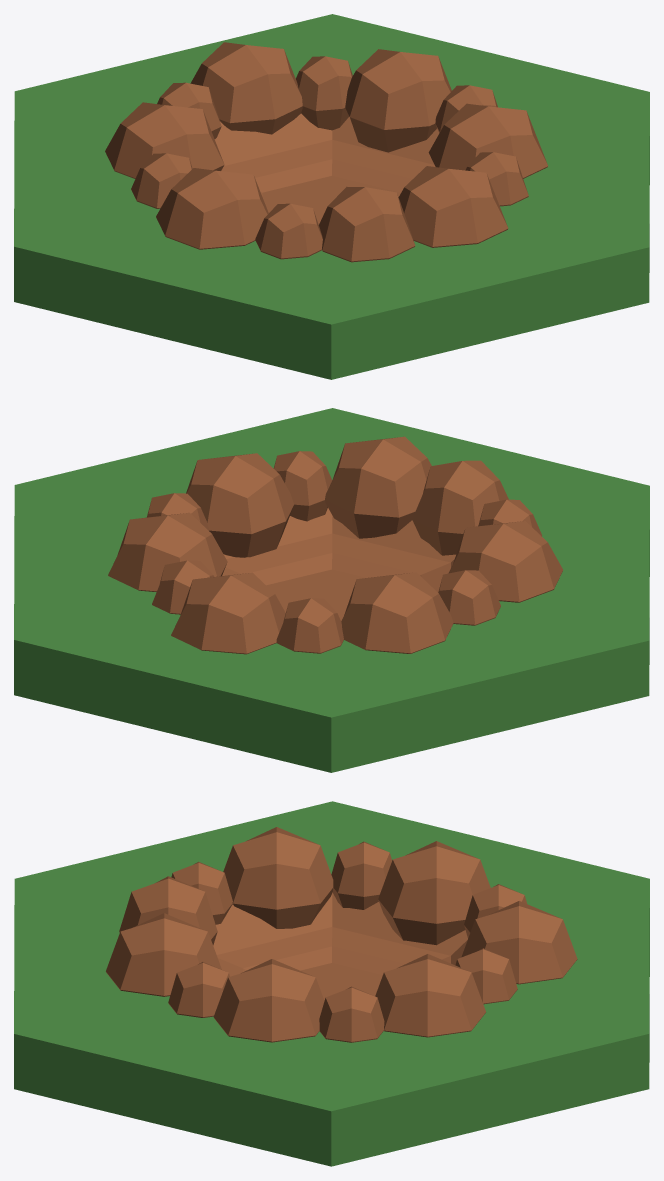
The model's file is Planet_Crater_Hexagon.fbx.
3 renders of one model, top to bottom at view 1: azimuth 30°, elevation 25°; view 2: azimuth 150°, elevation 25°; view 3: azimuth 270°, elevation 25°, orthographic.
Visible parts, largest first — view 1: polySurface5, pCube287, pCube285, pCube294, pCube295, pCube292, pCube297, pCube289, pCube286, pCube296, pCube293, pCube290 (+2 smaller); view 2: polySurface5, pCube289, pCube295, pCube292, pCube285, pCube294, pCube287, pCube297, pCube291, pCube290, pCube293, pCube286 (+2 smaller); view 3: polySurface5, pCube294, pCube292, pCube289, pCube287, pCube295, pCube285, pCube297, pCube293, pCube288, pCube290, pCube286 (+2 smaller).
Part boxes in pixels (x1,y1,x2,y2): polySurface5: [14, 14, 649, 379]; pCube287: [345, 49, 451, 152]; pCube285: [190, 42, 302, 134]; pCube294: [156, 168, 268, 249]; pCube295: [398, 166, 508, 247]; pCube292: [105, 102, 224, 178]; pCube297: [319, 186, 415, 262]; pCube289: [428, 103, 547, 178]; pCube286: [296, 56, 352, 130]; pCube296: [255, 203, 322, 259]; pCube293: [131, 153, 192, 208]; pCube290: [465, 152, 528, 206]; polySurface5: [14, 408, 649, 772]; pCube289: [186, 453, 293, 557]; pCube295: [325, 436, 431, 538]; pCube292: [341, 572, 453, 653]; pCube285: [171, 572, 285, 654]; pCube294: [448, 521, 562, 602]; pCube287: [108, 512, 227, 591]; pCube297: [412, 460, 508, 555]; pCube291: [276, 598, 343, 653]; pCube290: [273, 451, 332, 521]; pCube293: [438, 570, 500, 625]; pCube286: [152, 560, 214, 614]; polySurface5: [14, 801, 649, 1166]; pCube294: [223, 827, 333, 928]; pCube292: [378, 841, 490, 945]; pCube289: [213, 959, 324, 1042]; pCube287: [375, 954, 485, 1037]; pCube295: [106, 913, 221, 996]; pCube285: [461, 901, 577, 984]; pCube297: [119, 876, 217, 945]; pCube293: [331, 841, 392, 909]; pCube288: [319, 986, 384, 1042]; pCube290: [168, 962, 229, 1017]; pCube286: [455, 948, 517, 1004].
Bounding box in the file's own units: 6.28 × 1.04 × 5.44.
